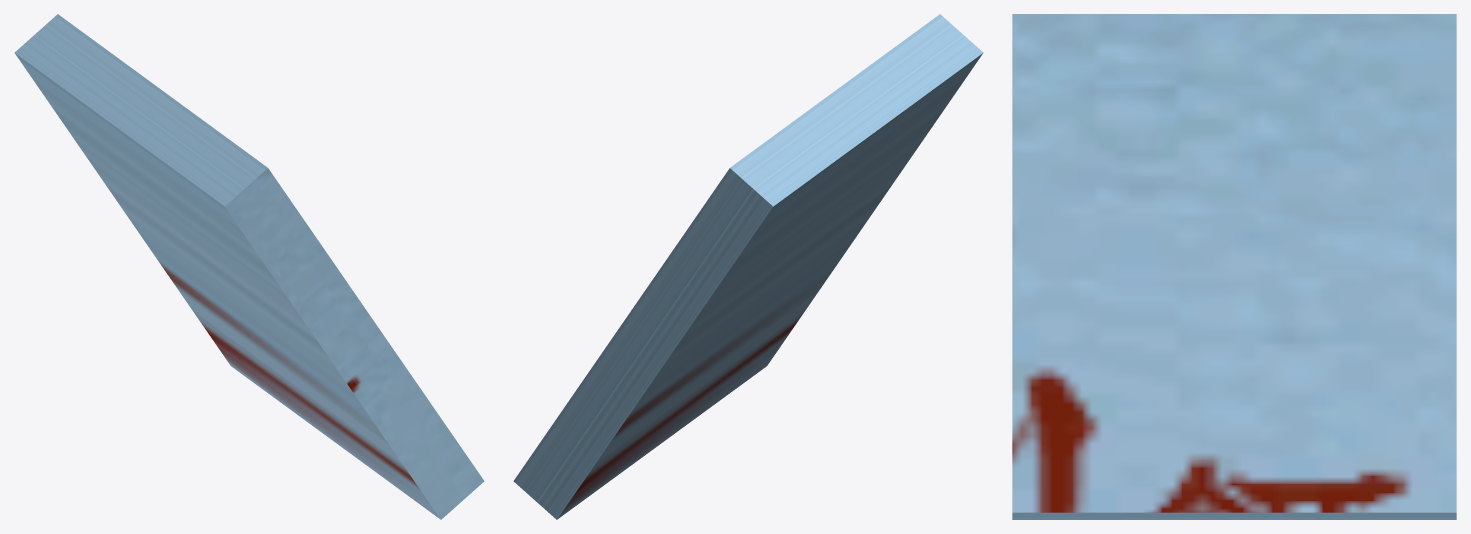
3 views of the same model, side by side, from view 1: azimuth 30°, elevation 25°; view 2: azimuth 150°, elevation 25°; view 3: azimuth 270°, elevation 25° (orthographic). The views are drawn at different scales.
Parts seen in each view (by area): view 1: Joint_0_Object_0; view 2: Joint_0_Object_0; view 3: Joint_0_Object_0.
Part boxes in pixels (box(x1,y1,x2,y2)): Joint_0_Object_0: box(14, 14, 484, 519); Joint_0_Object_0: box(513, 14, 983, 519); Joint_0_Object_0: box(1012, 14, 1456, 519).
Size of the model in its own units: 297 by 430 by 416.
